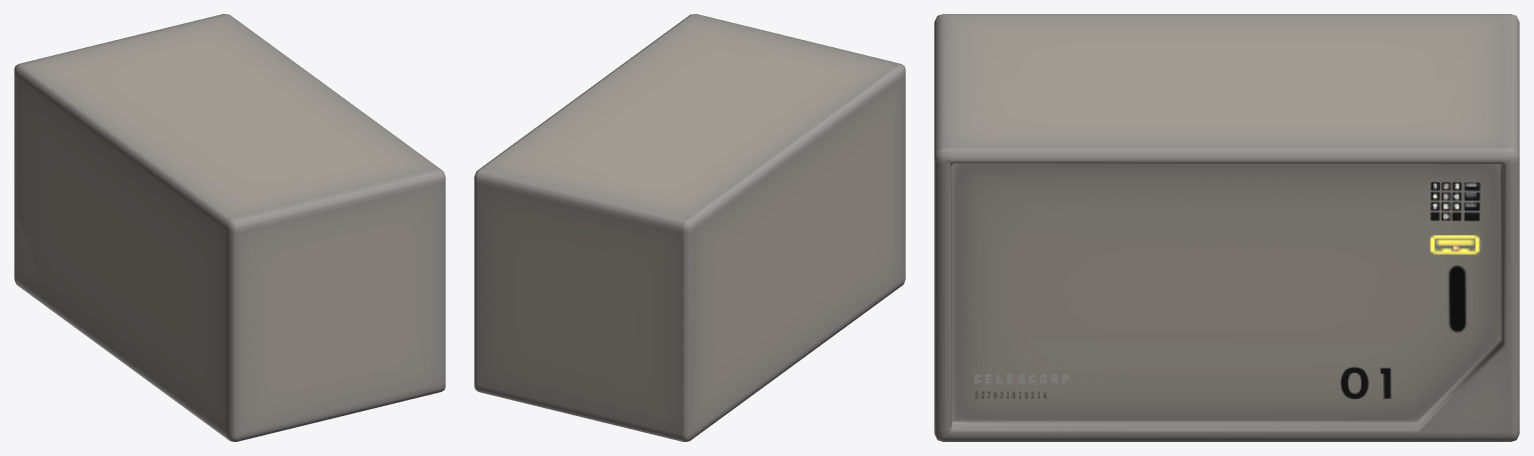
File: scifi_box_optimized.glb
The picture shows the model from 3 angles, left to right: view 1: azimuth 30°, elevation 25°; view 2: azimuth 150°, elevation 25°; view 3: azimuth 270°, elevation 25°; orthographic projection. The views are drawn at different scales.
Visible parts, largest first — view 1: SM_StorageBox_1.001_0; view 2: SM_StorageBox_1.001_0; view 3: SM_StorageBox_1.001_0.
Part boxes in pixels (x1,y1,x2,y2): SM_StorageBox_1.001_0: (14,14,445,441); SM_StorageBox_1.001_0: (474,14,905,441); SM_StorageBox_1.001_0: (934,14,1519,441).
Bounding box in the file's own units: 0.411 × 0.4019 × 0.724.
1 material, 1 textured.
